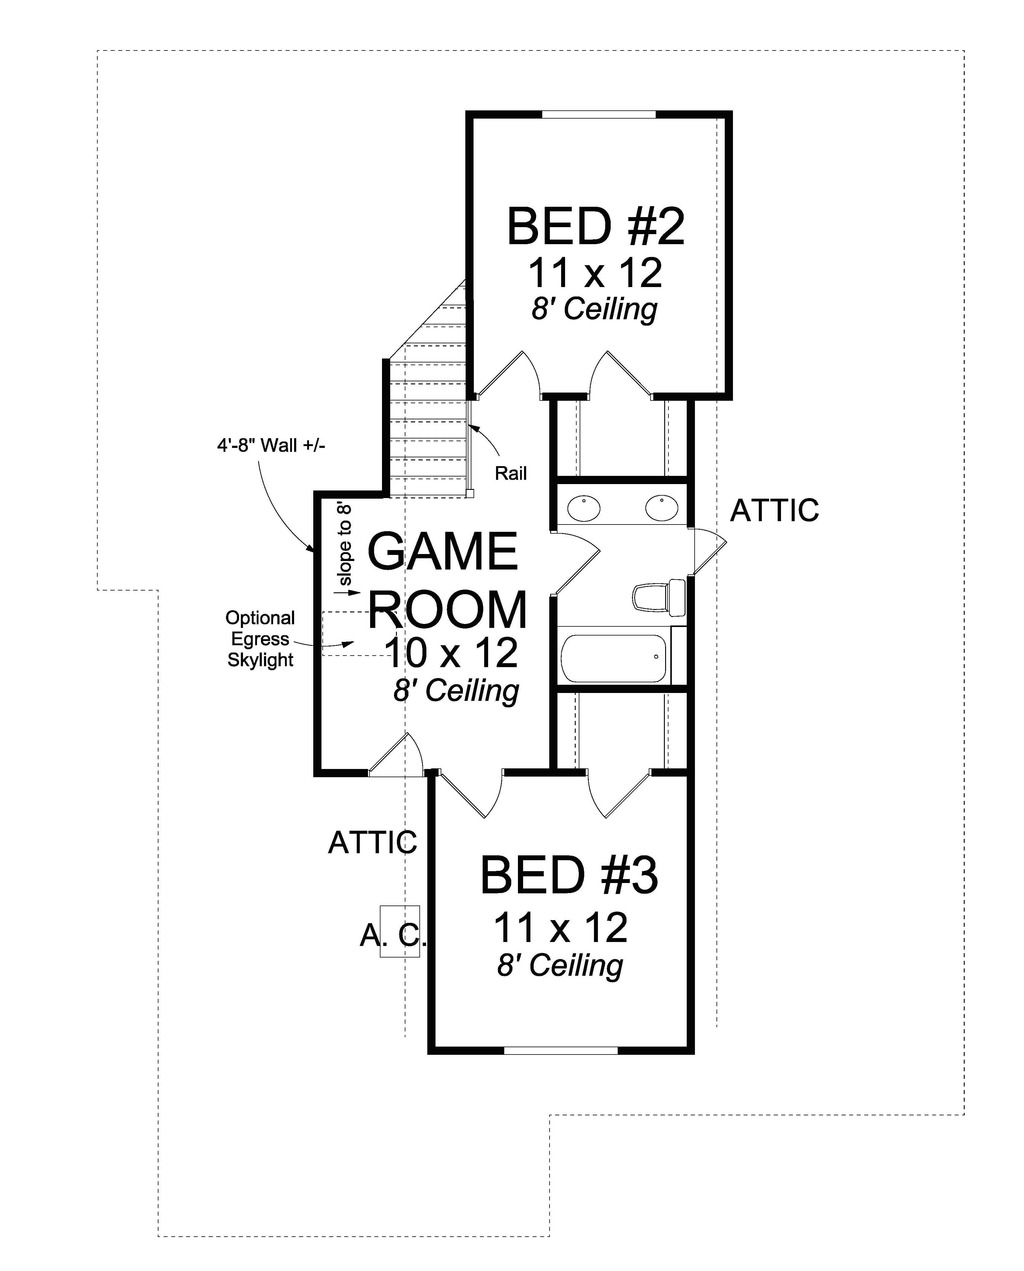door: (430, 764, 531, 825), (580, 754, 655, 829), (572, 340, 653, 402), (470, 340, 551, 398), (541, 527, 599, 596), (364, 727, 433, 783), (685, 521, 751, 579)
large_sink: (628, 581, 678, 629)
small_sink: (560, 475, 691, 519)
stairs: (380, 281, 472, 508)
tub: (553, 629, 686, 688)
window: (508, 1036, 622, 1060), (539, 102, 658, 123)
